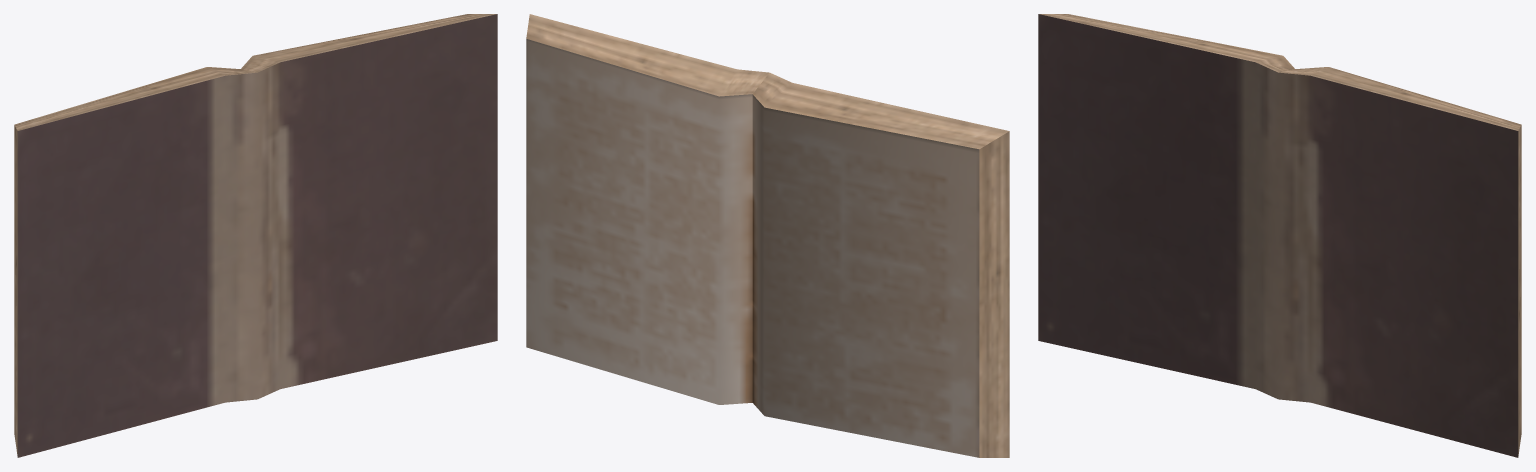
Rendered from Book_Open_B.fbx.
3 renders of one model, left to right at view 1: azimuth 30°, elevation 25°; view 2: azimuth 150°, elevation 25°; view 3: azimuth 330°, elevation 25°, orthographic.
Visible parts, largest first — view 1: Book_Open_B; view 2: Book_Open_B; view 3: Book_Open_B.
Part boxes in pixels (<box>): Book_Open_B: <box>14,14,497,457</box>; Book_Open_B: <box>526,14,1009,457</box>; Book_Open_B: <box>1038,14,1521,457</box>.
Bounding box in the file's own units: 0.7385 × 0.4806 × 0.0742.
